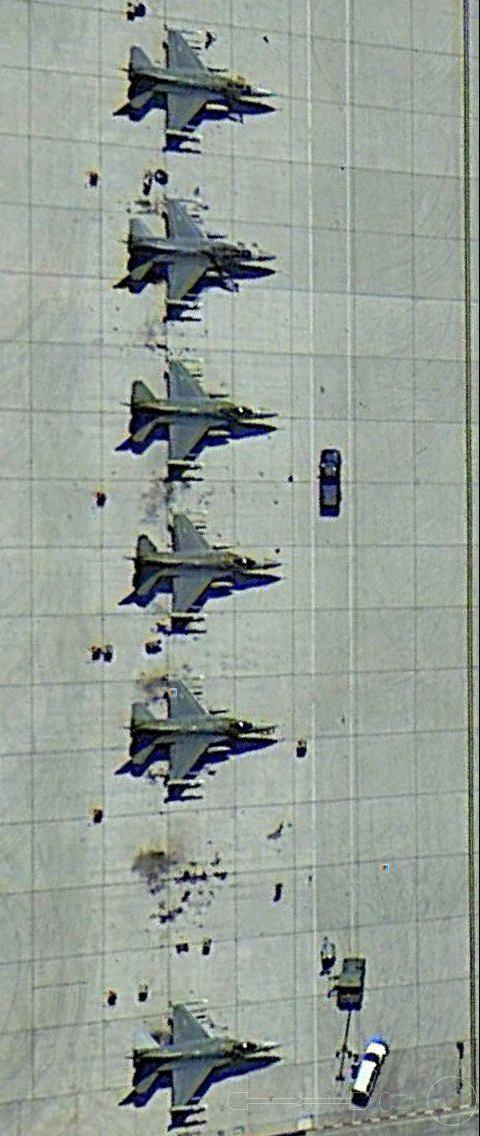F-16: (126, 194, 277, 311), (127, 674, 279, 789), (129, 1003, 282, 1117), (127, 32, 282, 144), (125, 356, 280, 468), (135, 514, 282, 624)
